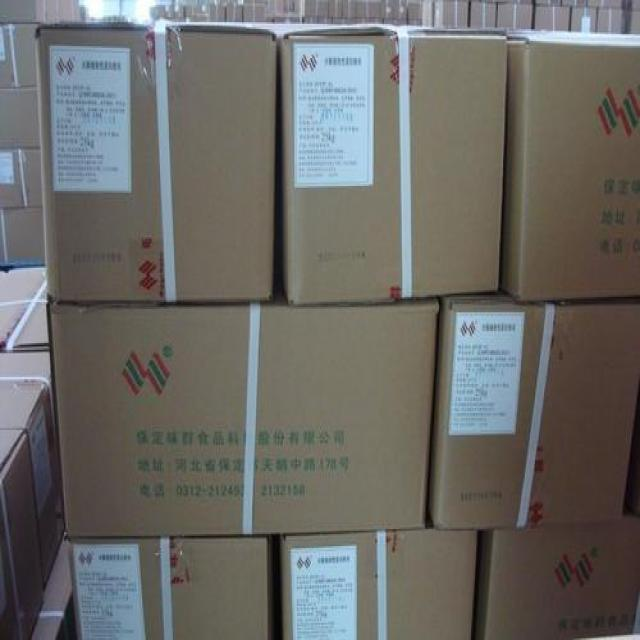box: (47, 294, 440, 536), (27, 11, 276, 306), (275, 21, 507, 308), (428, 282, 640, 528), (500, 30, 640, 299), (273, 520, 488, 640), (62, 524, 274, 640), (478, 512, 640, 640)
